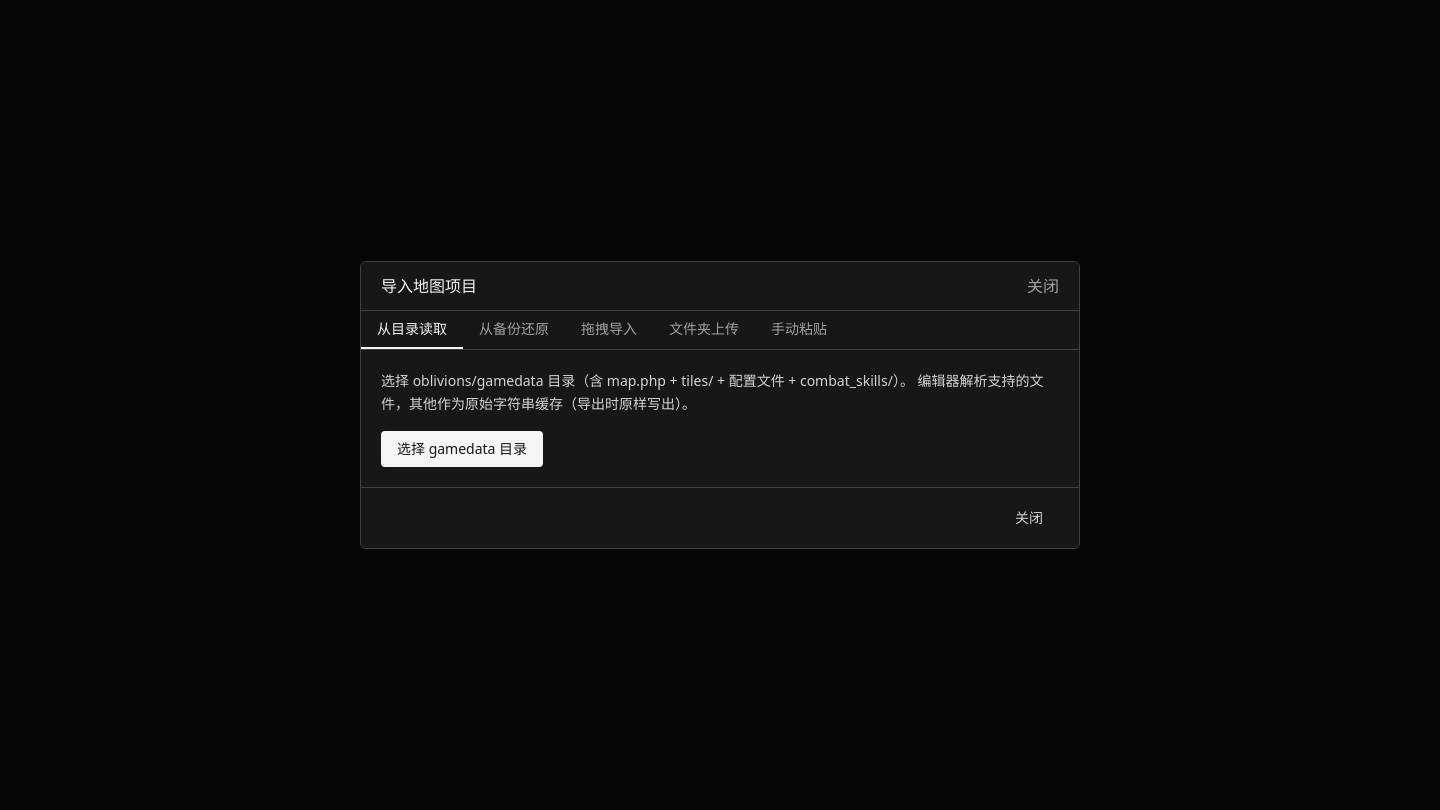
it: ImportModal › 点击 drop Tab 切换
Step 1. Click the button "拖拽导入" → (609,330), box [565,311,653,349]
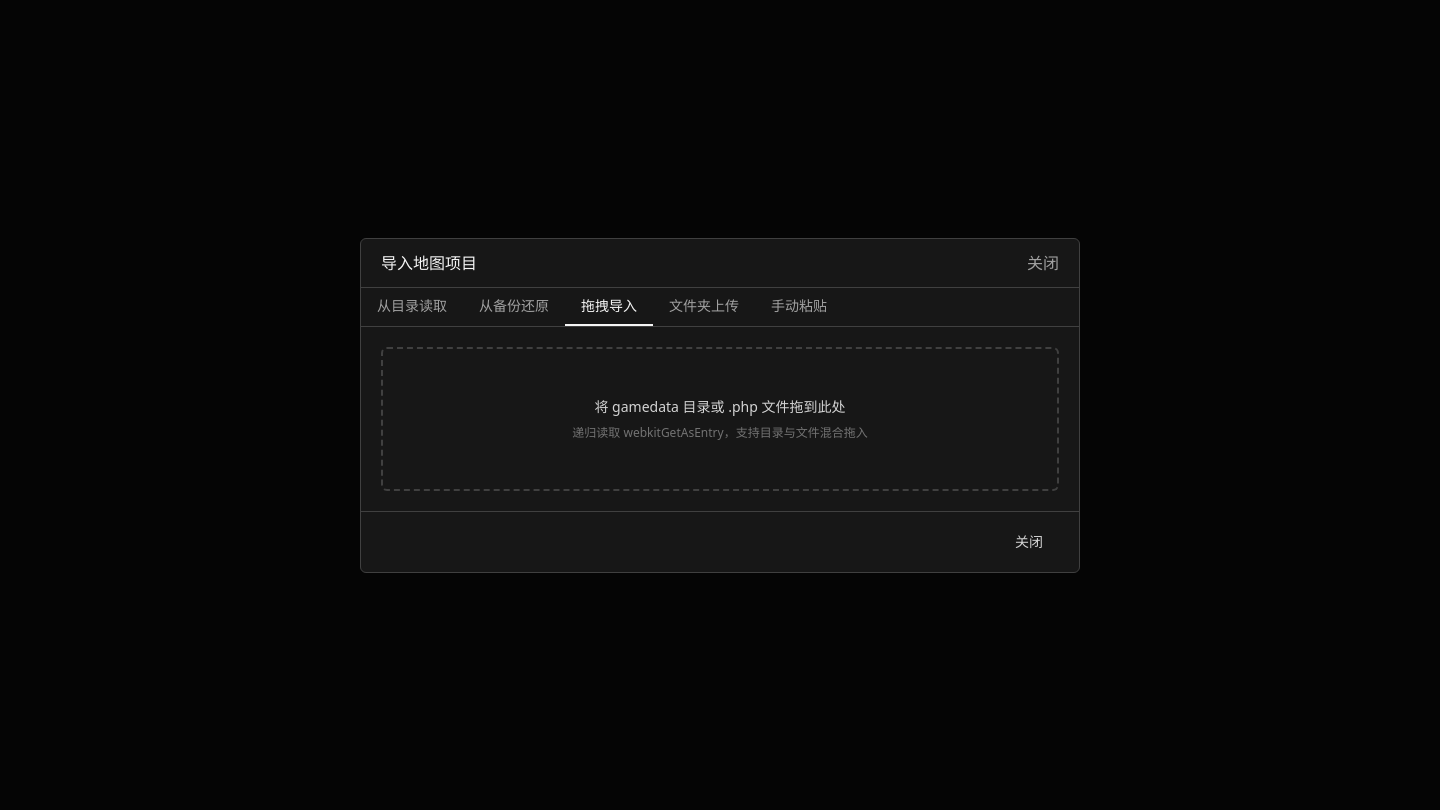
Result: the text "将 gamedata 目录或 .php 文件拖到此处" is shown at [594,396,846,416]
